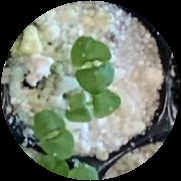Basil: (67, 35, 118, 94), (65, 91, 125, 126), (34, 110, 75, 158)
